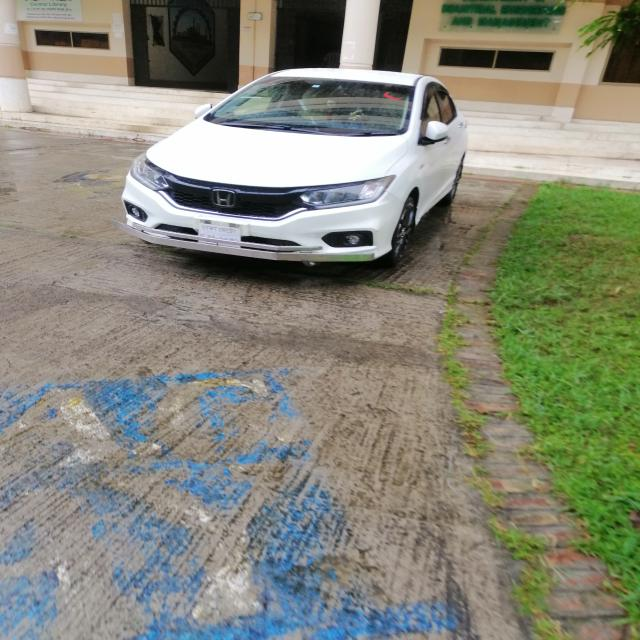Car: (116, 67, 481, 278)
